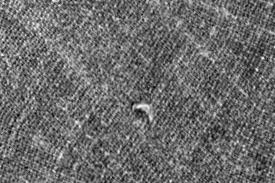snag: (129, 100, 159, 124)
